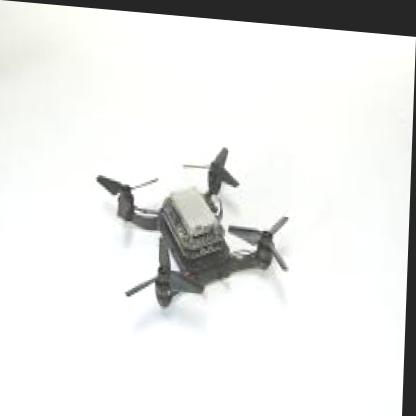UAS: (95, 135, 294, 312)
